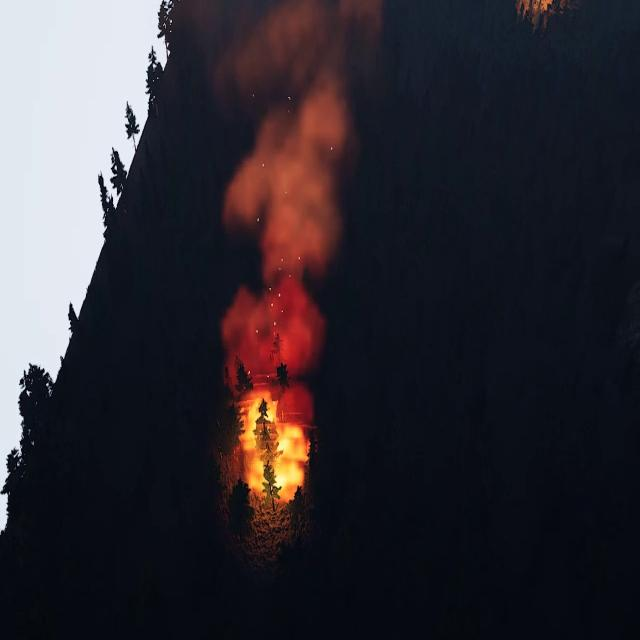fire: (240, 386, 313, 497), (519, 0, 556, 16)
smoke: (173, 0, 383, 383)
